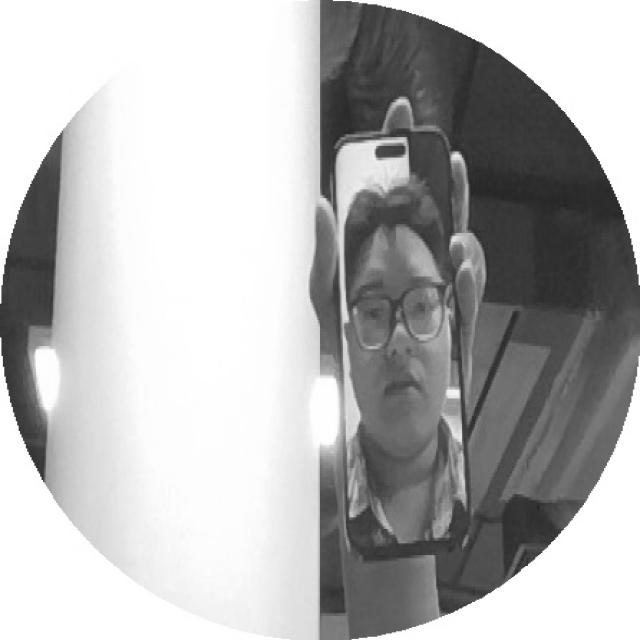fake: (322, 122, 495, 567), (324, 123, 476, 571)
